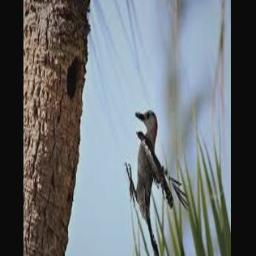Woodpecker: (125, 112, 190, 256)
